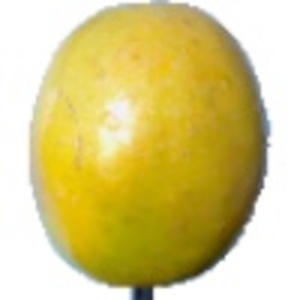maracujá: (27, 1, 274, 300)
